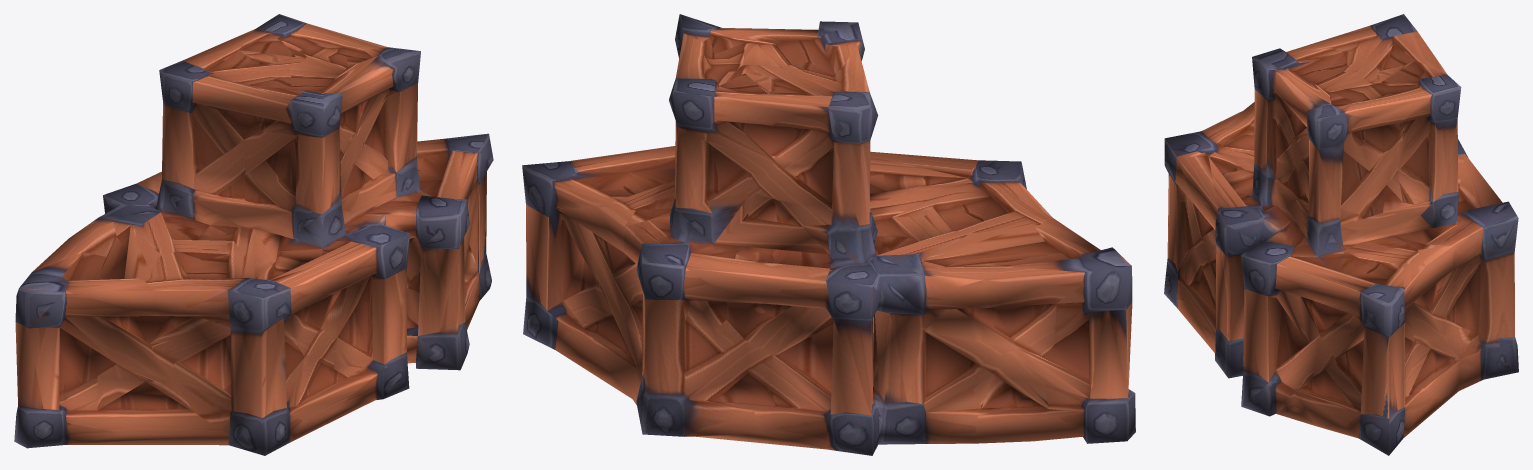
File: crate-stack.glb
3 renders of one model, left to right at view 1: azimuth 30°, elevation 25°; view 2: azimuth 150°, elevation 25°; view 3: azimuth 270°, elevation 25°, orthographic. The views are drawn at different scales.
Parts seen in each view (by area): view 1: crate_stack; view 2: crate_stack; view 3: crate_stack.
Part boxes in pixels (bbox=[...]): crate_stack: bbox=[14, 14, 493, 455]; crate_stack: bbox=[522, 14, 1135, 455]; crate_stack: bbox=[1164, 14, 1518, 455].
Size of the model in its own units: 1.4 by 0.7639 by 0.8531.
1 material, 1 textured.
